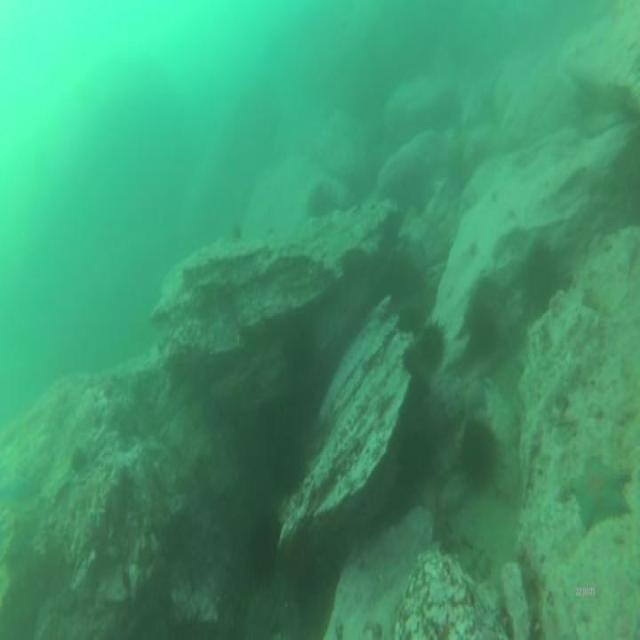echinus: (456, 414, 501, 503), (250, 509, 282, 594), (269, 433, 303, 496), (524, 240, 558, 300), (416, 316, 447, 375), (304, 182, 338, 221), (401, 338, 427, 381), (396, 300, 424, 335)
starfish: (568, 452, 636, 532)
